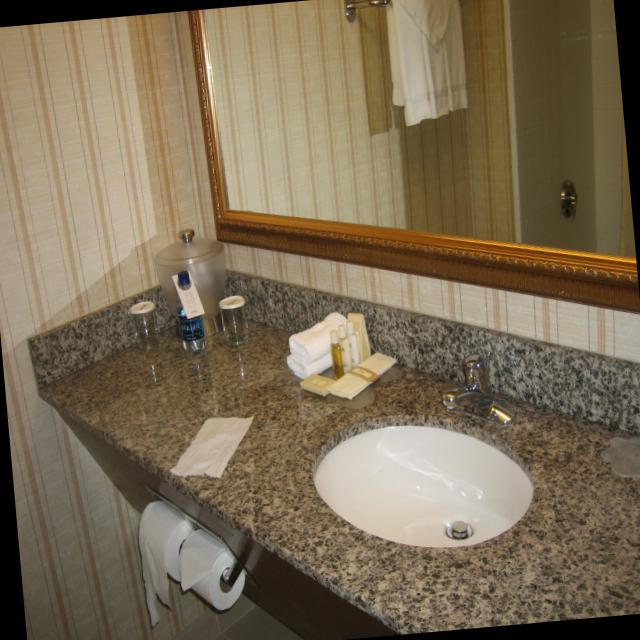mirror crop: (189, 0, 639, 312)
sink basin: (315, 421, 531, 546)
toilet paper: (137, 502, 198, 622), (178, 530, 243, 612)
